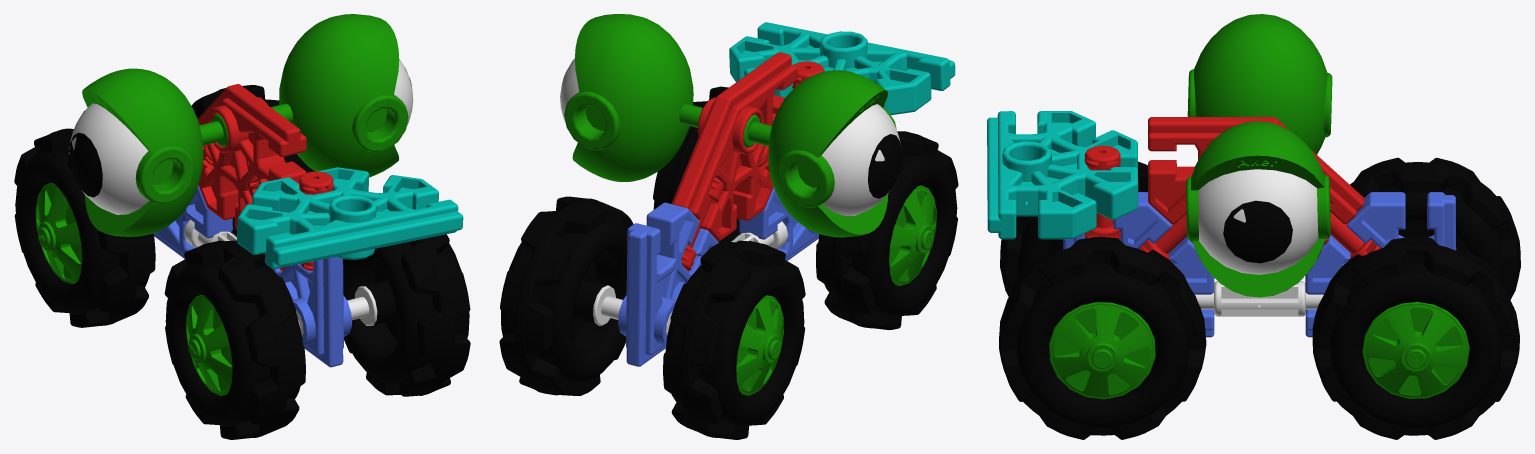
The picture shows the model from 3 angles, left to right: view 1: azimuth 30°, elevation 25°; view 2: azimuth 150°, elevation 25°; view 3: azimuth 270°, elevation 25°; orthographic projection. The views are drawn at different scales.
Visible parts, largest first — view 1: Untitled.041, Untitled.063, transform1.001, Untitled.061, Untitled.030, Untitled.4671, Untitled.4678, Untitled.4681, Untitled.053, Untitled.4677, Untitled.4674, Untitled.4682; view 2: Untitled.041, Untitled.063, Untitled.061, transform1.001, Untitled.4681, Untitled.030, Untitled.4671, Untitled.4678, Untitled.053, Untitled.4679, Untitled.4673, Untitled.4682 (+1 smaller); view 3: Untitled.041, Untitled.063, Untitled.030, transform1.001, Untitled.4671, Untitled.061, Untitled.4681, Untitled.4678, Untitled.4669, Untitled.4682, Untitled.4674, Untitled.4673 (+1 smaller).
Boxes of the visible parts, left/top/right/bottom form: Untitled.041: left=14, top=85, right=470, bottom=439; Untitled.063: left=82, top=14, right=408, bottom=236; transform1.001: left=237, top=167, right=463, bottom=268; Untitled.061: left=198, top=84, right=306, bottom=229; Untitled.030: left=35, top=183, right=232, bottom=395; Untitled.4671: left=69, top=59, right=413, bottom=214; Untitled.4678: left=264, top=253, right=352, bottom=367; Untitled.4681: left=153, top=185, right=232, bottom=258; Untitled.053: left=69, top=132, right=102, bottom=197; Untitled.4677: left=347, top=286, right=377, bottom=325; Untitled.4674: left=299, top=171, right=333, bottom=270; Untitled.4682: left=184, top=219, right=236, bottom=247; Untitled.041: left=499, top=86, right=958, bottom=439; Untitled.063: left=564, top=14, right=896, bottom=237; Untitled.061: left=671, top=52, right=797, bottom=241; transform1.001: left=729, top=22, right=955, bottom=114; Untitled.4681: left=618, top=202, right=718, bottom=366; Untitled.030: left=736, top=185, right=936, bottom=395; Untitled.4671: left=560, top=58, right=900, bottom=215; Untitled.4678: left=739, top=187, right=818, bottom=260; Untitled.053: left=868, top=134, right=901, bottom=198; Untitled.4679: left=593, top=285, right=622, bottom=325; Untitled.4673: left=681, top=177, right=724, bottom=270; Untitled.4682: left=731, top=221, right=788, bottom=249; Untitled.041: left=999, top=157, right=1520, bottom=439; Untitled.063: left=1186, top=14, right=1332, bottom=297; Untitled.030: left=1049, top=302, right=1469, bottom=399; transform1.001: left=987, top=111, right=1138, bottom=239; Untitled.4671: left=1198, top=169, right=1318, bottom=274; Untitled.061: left=1148, top=117, right=1364, bottom=245; Untitled.4681: left=1305, top=192, right=1456, bottom=337; Untitled.4678: left=1063, top=192, right=1214, bottom=337; Untitled.4669: left=1223, top=200, right=1292, bottom=263; Untitled.4682: left=1195, top=281, right=1323, bottom=316; Untitled.4674: left=1084, top=145, right=1120, bottom=240; Untitled.4673: left=1330, top=212, right=1380, bottom=260.
Bounding box in the file's own units: 1.08 × 0.9872 × 1.49.
